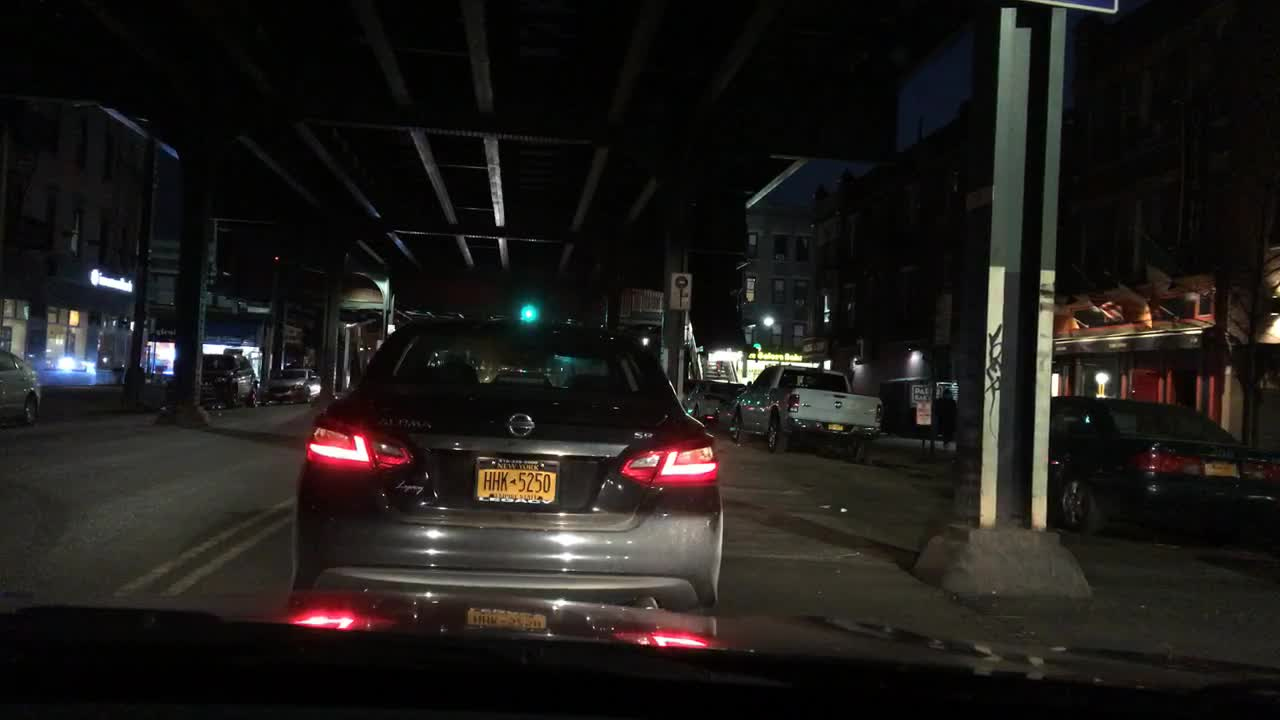car: (287, 319, 722, 647), (1050, 397, 1279, 538), (0, 347, 41, 427), (201, 353, 259, 409), (683, 378, 741, 422), (262, 368, 320, 403)
person: (938, 386, 959, 453)
traffic light: (519, 306, 537, 320)
traffic sign: (1038, 0, 1119, 11), (916, 399, 930, 425)
truck: (726, 363, 881, 456)
